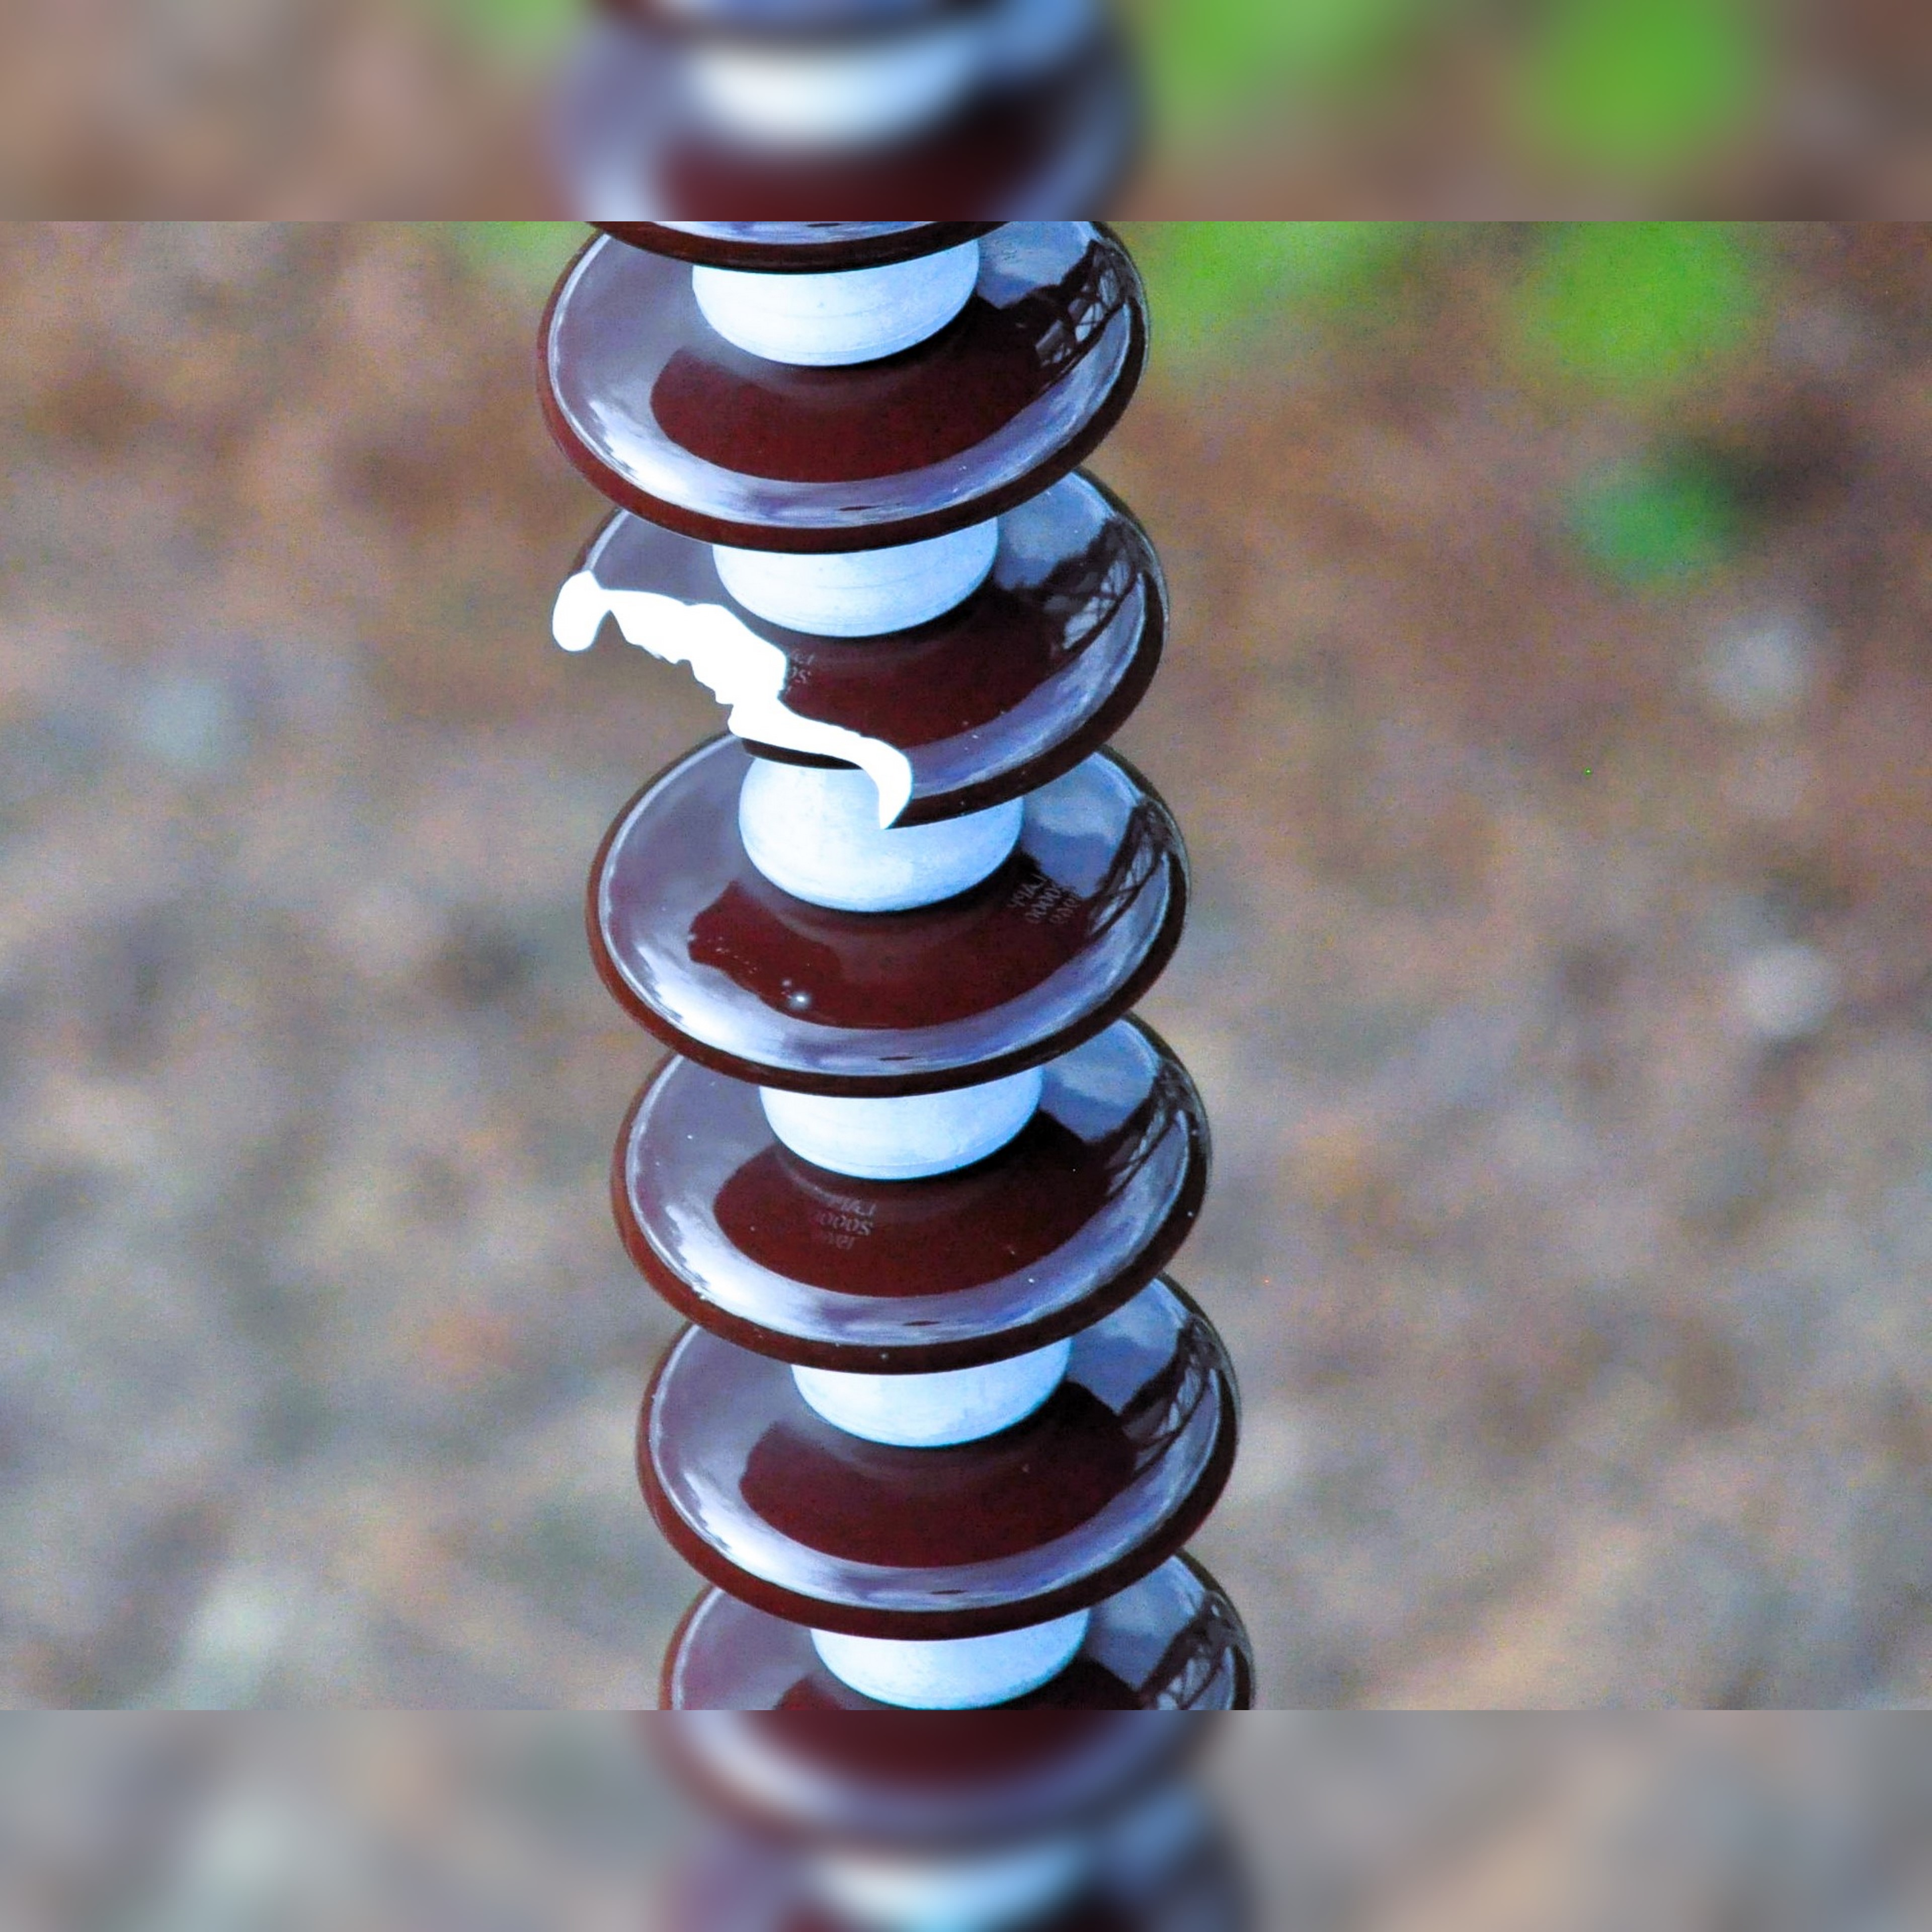insulator breakage: (515, 451, 1178, 840)
